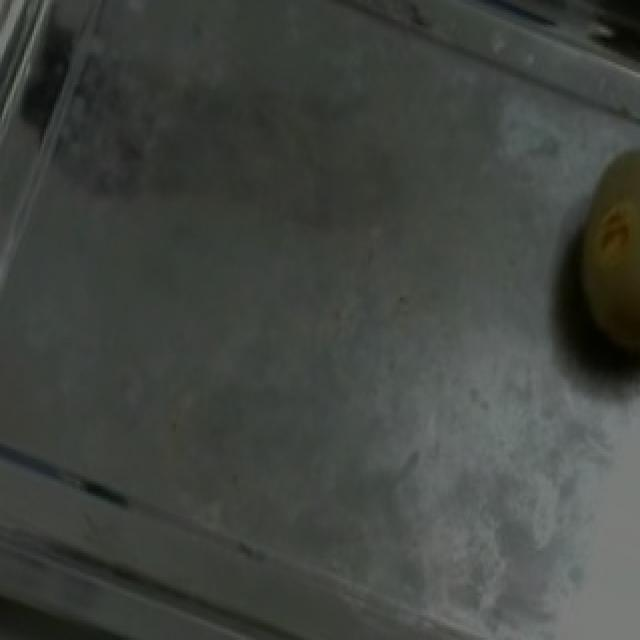Fruit: (522, 114, 640, 407)
